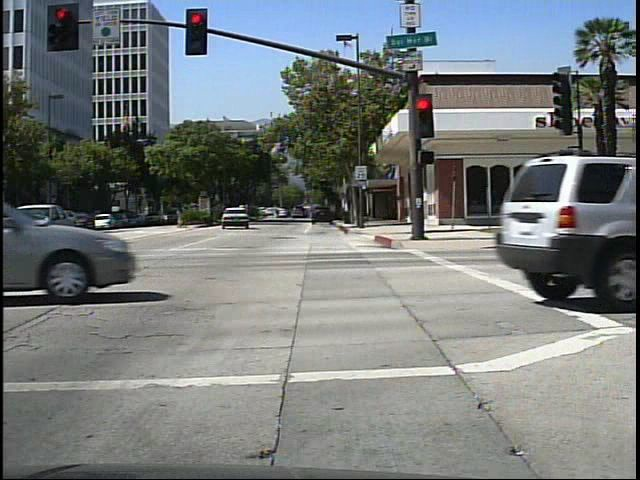person: (272, 205, 285, 223)
